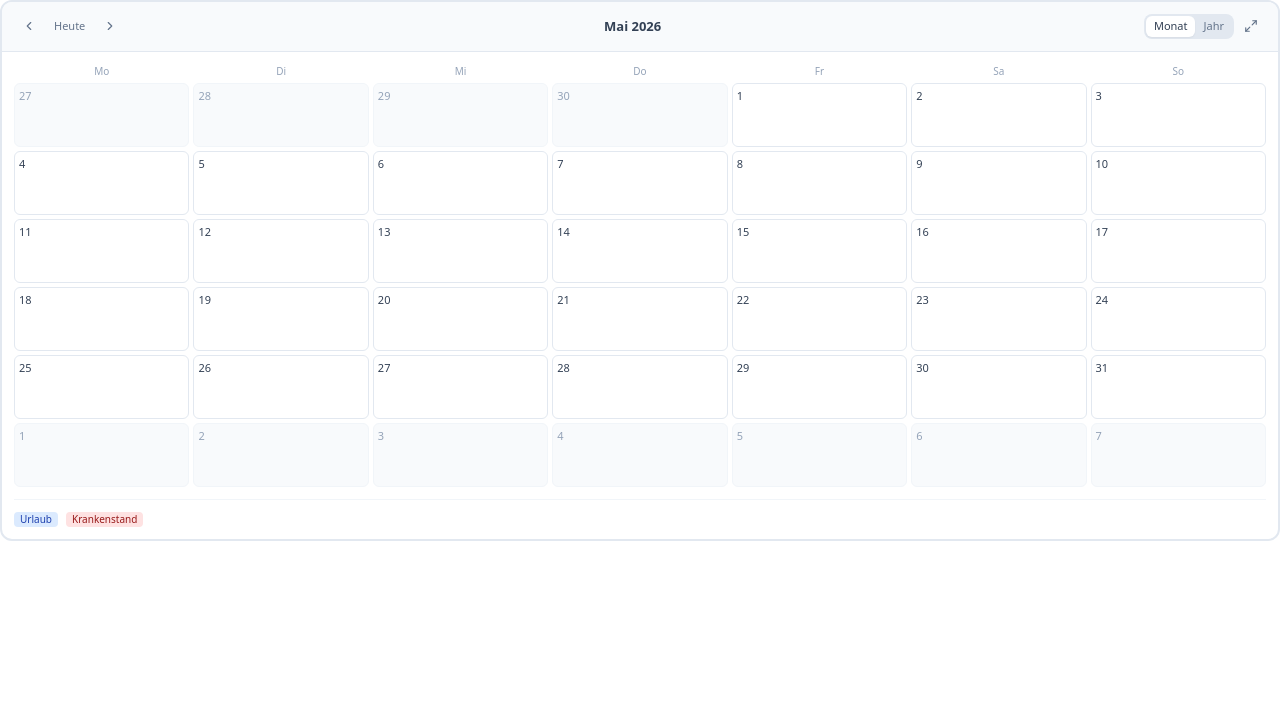
Test: LeaveCalendar › mouseDown + mouseUp on the same cell with no movement still opens day-detail (not the form)
This screenshot has width=1280, height=720.
Step 1. Click the button with test id "cal-cell-2026-05-15" → (819, 250), box [732, 218, 907, 282]
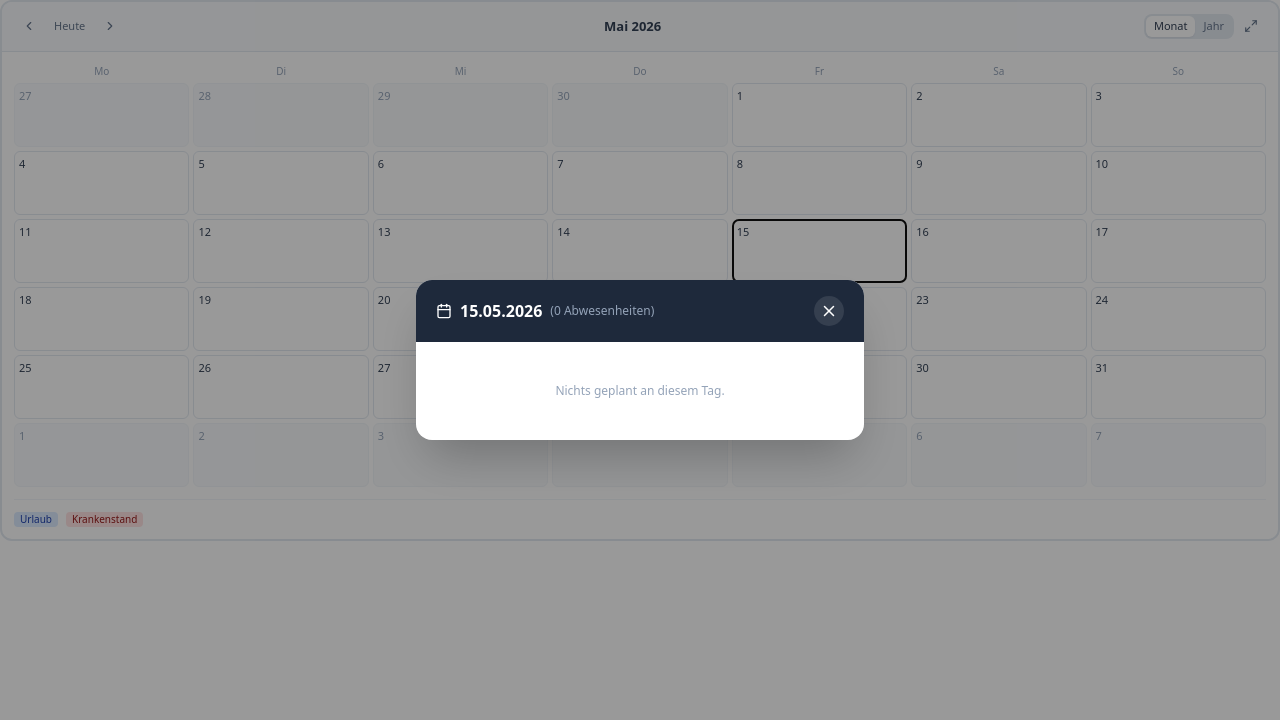
Check: the text "15.05.2026" is shown, box [460, 299, 542, 323]
